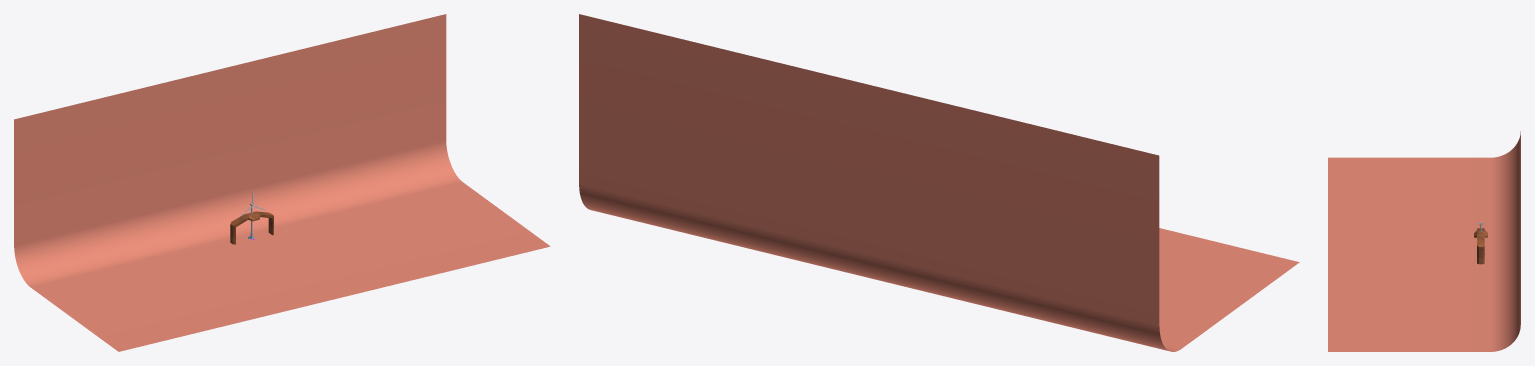
The model's file is OzRacer.gltf.
The picture shows the model from 3 angles, left to right: view 1: azimuth 30°, elevation 25°; view 2: azimuth 150°, elevation 25°; view 3: azimuth 270°, elevation 25°; orthographic projection. The views are drawn at different scales.
Parts seen in each view (by area): view 1: BackDrop, CheckPoint; view 2: BackDrop; view 3: BackDrop, CheckPoint.
Boxes of the visible parts, x1,y1,x2,y2 form: BackDrop: (14,14,550,351); CheckPoint: (230,211,273,244); BackDrop: (579,14,1299,351); BackDrop: (1328,131,1520,351); CheckPoint: (1474,228,1487,264).
Bounding box in the file's own units: 698 × 247 × 293.
8 materials, 2 textured.
